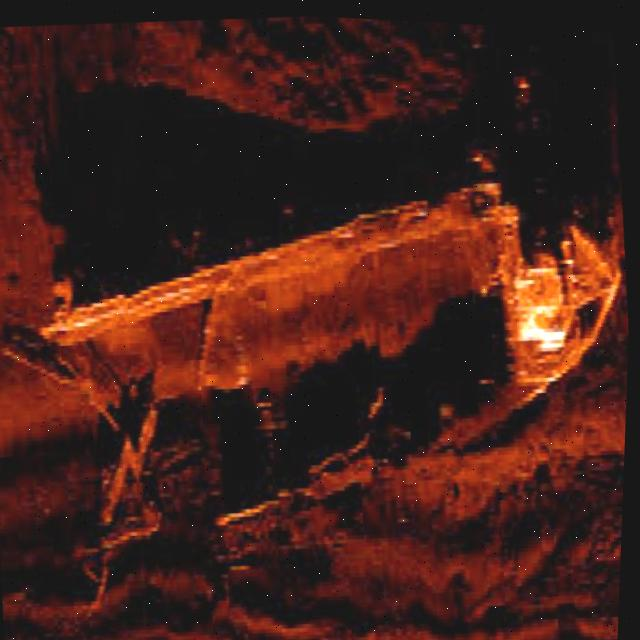shipwreck: (26, 151, 636, 523)
